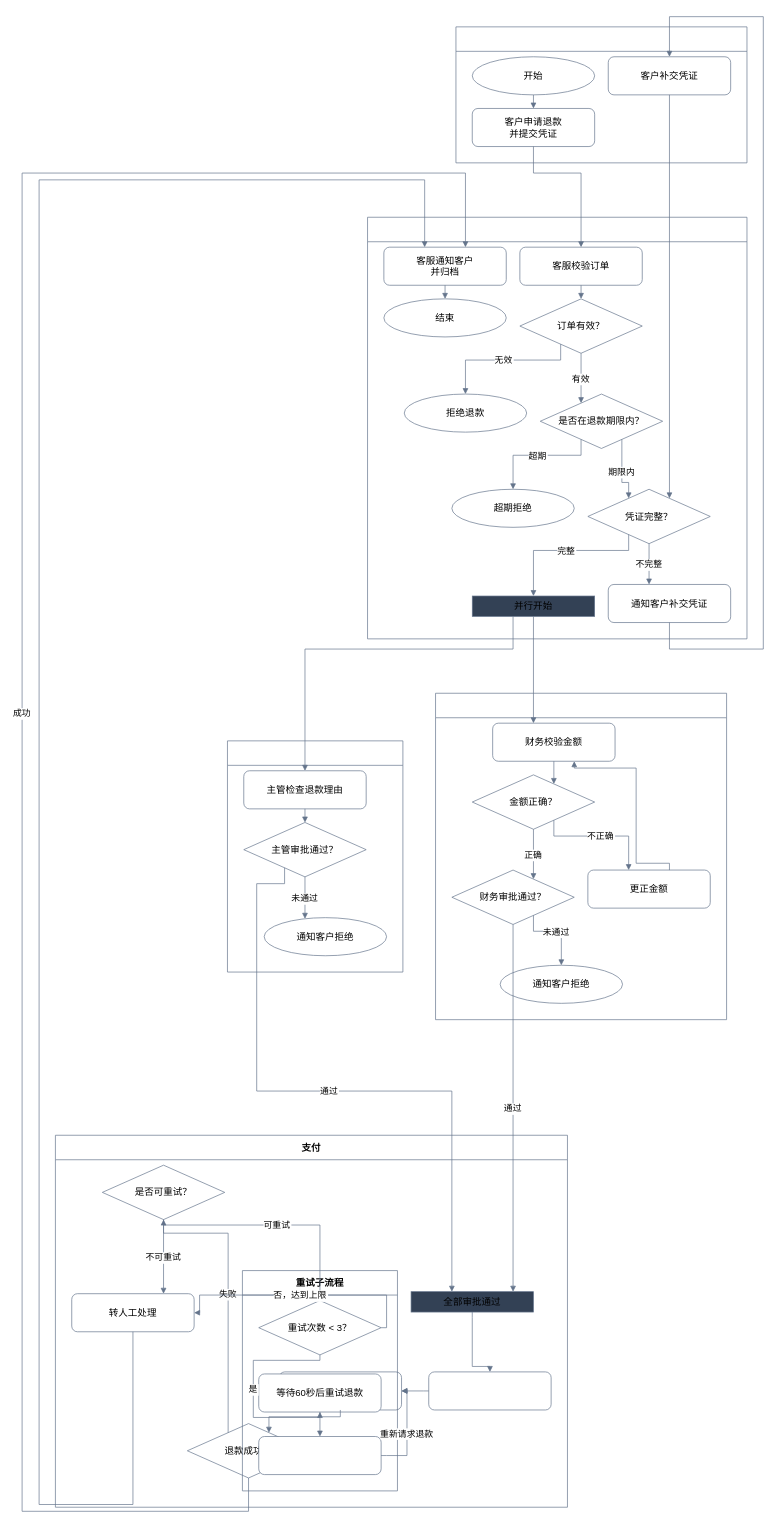
This 781x1529 diagram has some shape labels left out. The centre of each missing label's shape, as x and y in pixels:
主管: point (315, 856)
客户: point (601, 94)
客服: point (557, 428)
财务: point (581, 856)
重试次数 + 1: point (319, 1455)
重试次数 = 0: point (489, 1390)
